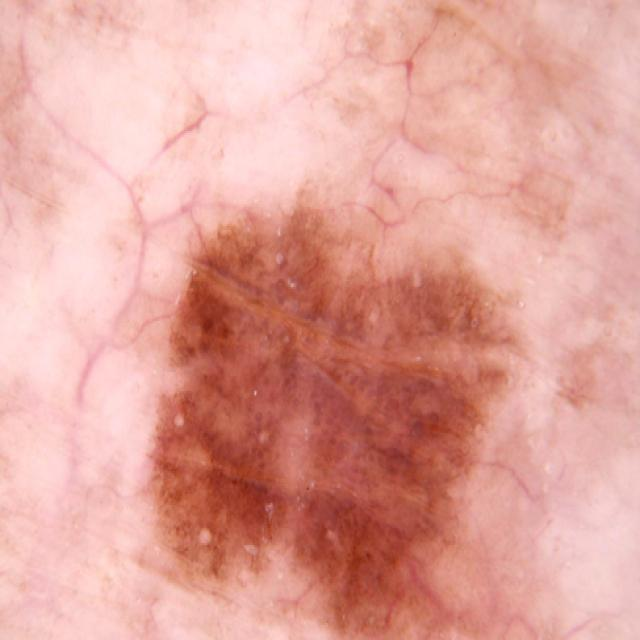Carcinoma: (149, 176, 569, 639)
